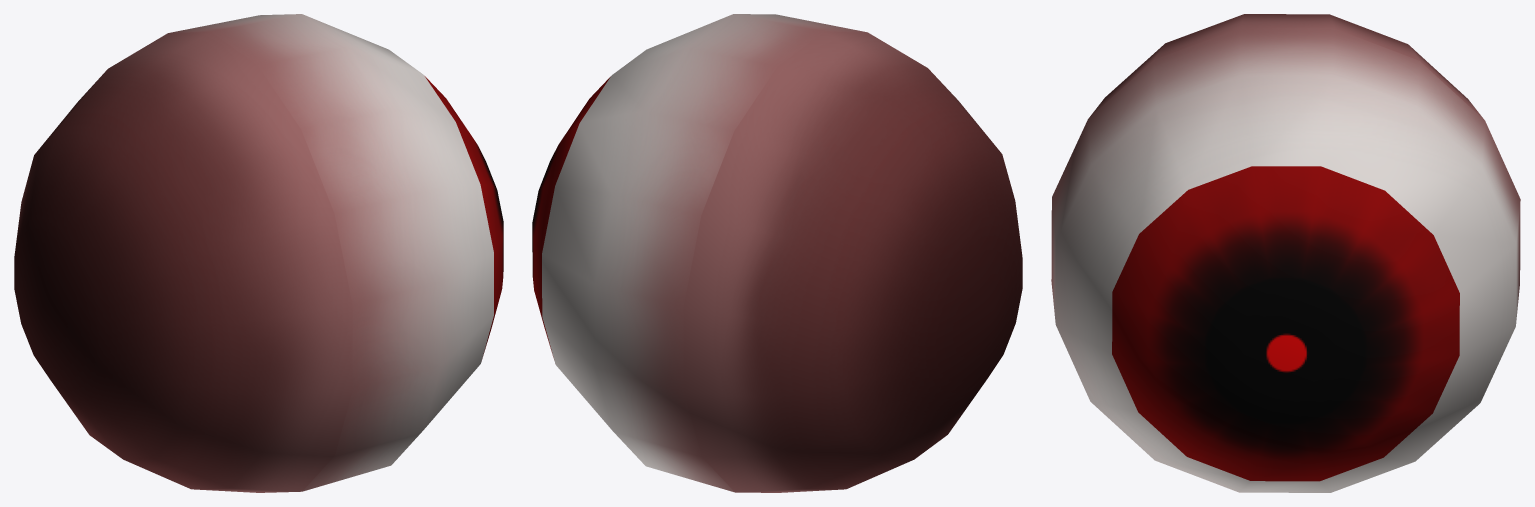
File: Eye01.fbx
3 views of the same model, side by side, from view 1: azimuth 30°, elevation 25°; view 2: azimuth 150°, elevation 25°; view 3: azimuth 270°, elevation 25° (orthographic).
Visible parts, largest first — view 1: eye7; view 2: eye7; view 3: eye7.
Part boxes in pixels (<box>): eye7: <box>14,14,503,492</box>; eye7: <box>532,14,1022,492</box>; eye7: <box>1051,14,1520,492</box>.
Size of the model in its own units: 5.67 by 5.41 by 5.41.
